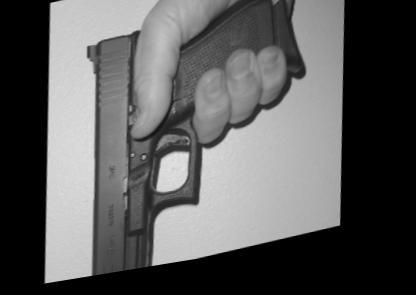pistol: (69, 0, 326, 281)
